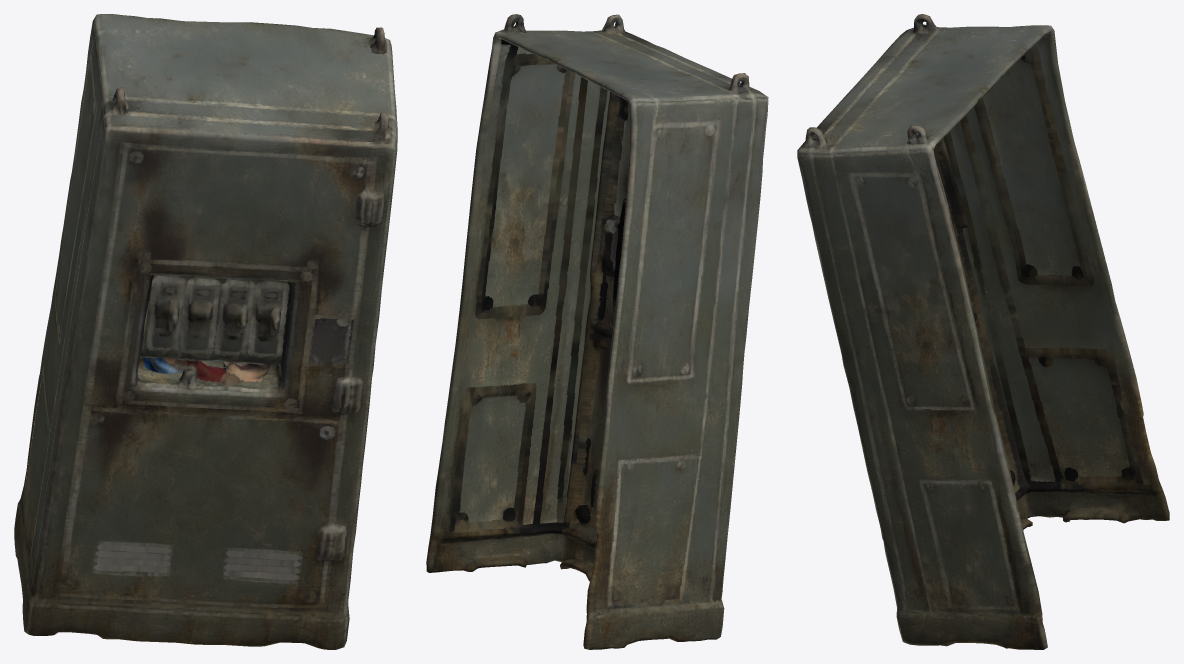
File: bunker_switchgear_raw.glb
The picture shows the model from 3 angles, left to right: view 1: azimuth 30°, elevation 25°; view 2: azimuth 150°, elevation 25°; view 3: azimuth 270°, elevation 25°; orthographic projection. The views are drawn at different scales.
Bounding box in the file's own units: 0.4918 × 0.9035 × 0.5562.
1 material, 1 textured.
